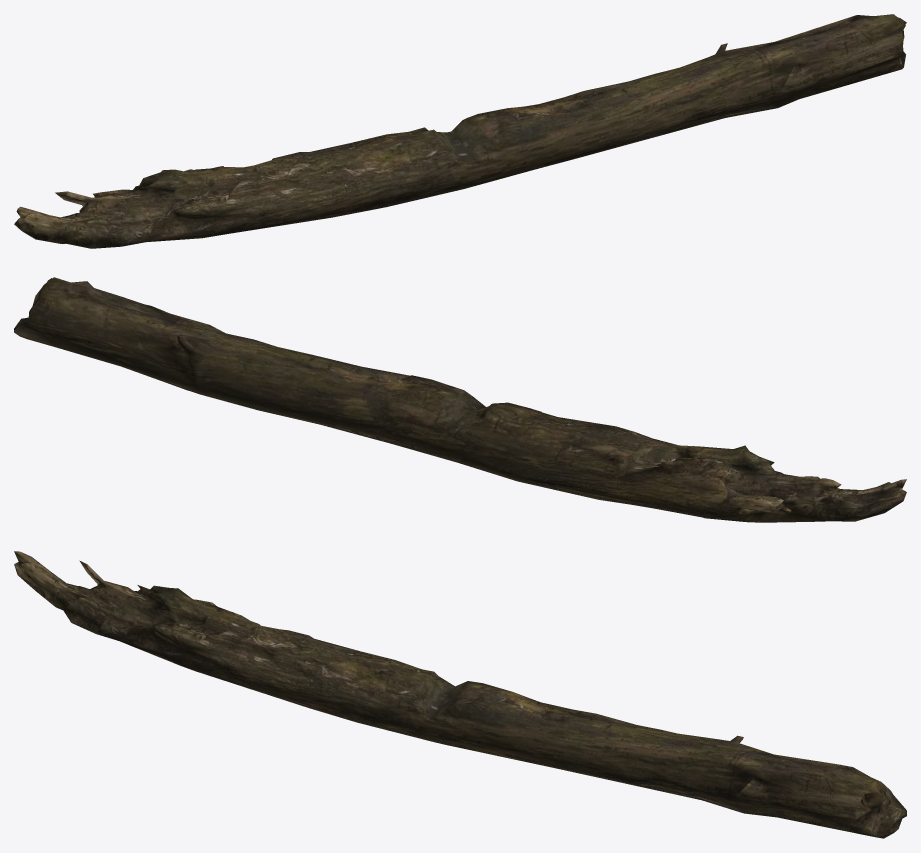
File: dead_tree_trunk.glb
3 views of the same model, one above another, from view 1: azimuth 30°, elevation 25°; view 2: azimuth 150°, elevation 25°; view 3: azimuth 330°, elevation 25° (orthographic).
Parts seen in each view (by area): view 1: dead_tree_trunk; view 2: dead_tree_trunk; view 3: dead_tree_trunk.
Part boxes in pixels (bbox=[...]): dead_tree_trunk: bbox=[14, 14, 906, 248]; dead_tree_trunk: bbox=[14, 277, 906, 522]; dead_tree_trunk: bbox=[14, 551, 906, 838].
Bounding box in the file's own units: 3.04 × 0.2847 × 0.275.
1 material, 1 textured.
